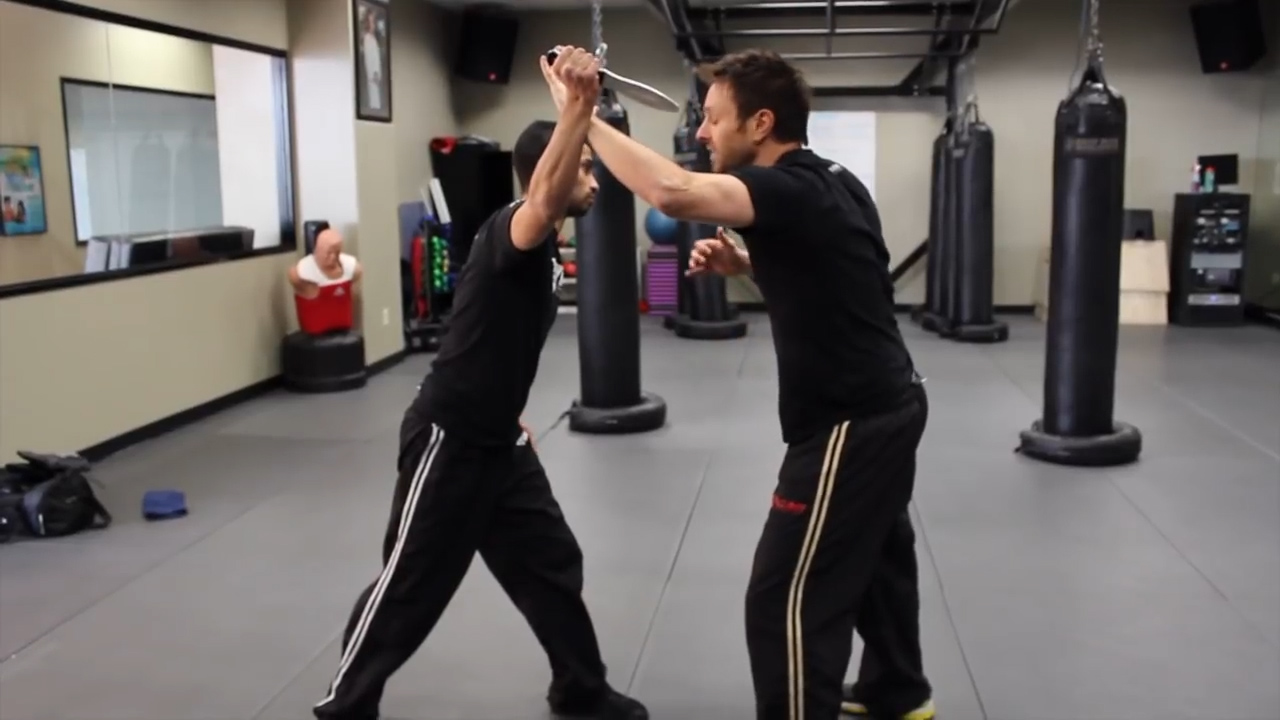knife: (539, 41, 686, 118)
